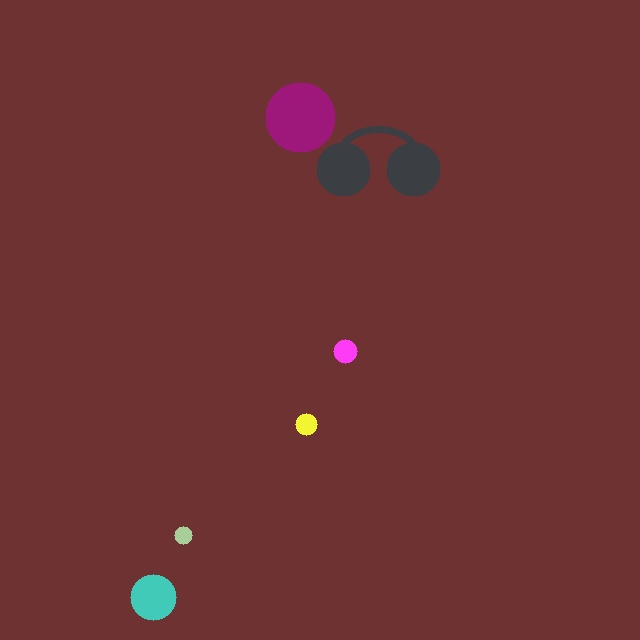over_ear: (312, 117, 444, 200)
